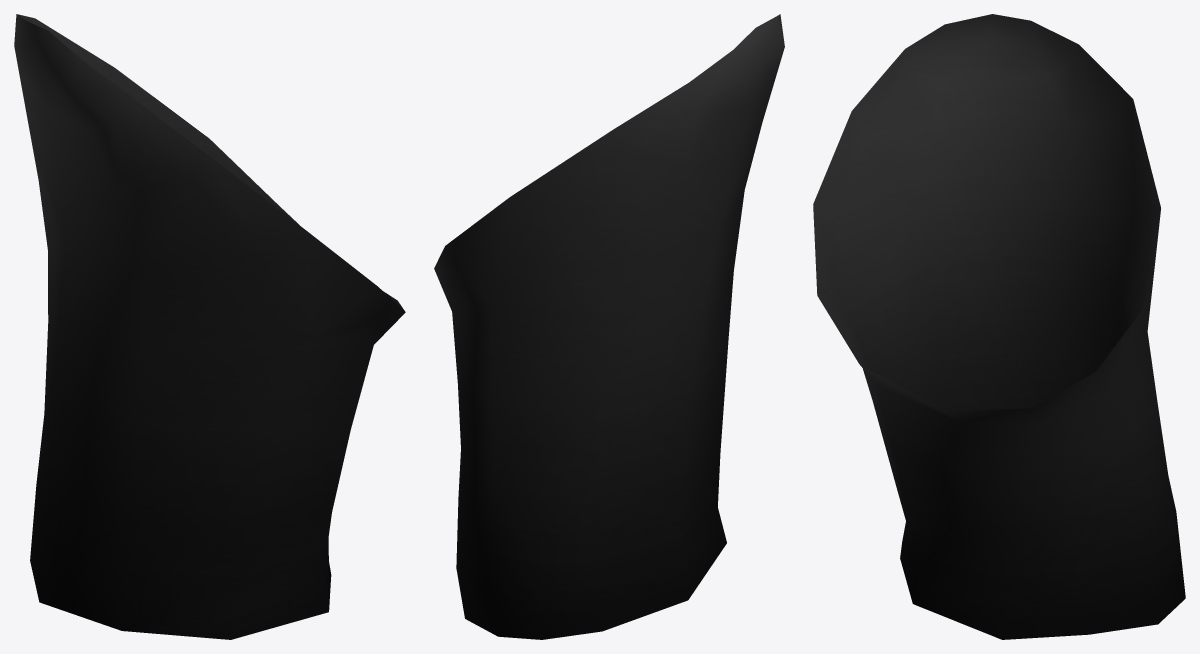
File: armupright.fbx
The picture shows the model from 3 angles, left to right: view 1: azimuth 30°, elevation 25°; view 2: azimuth 150°, elevation 25°; view 3: azimuth 270°, elevation 25°; orthographic projection. The views are drawn at different scales.
Parts seen in each view (by area): view 1: armupright; view 2: armupright; view 3: armupright.
Part boxes in pixels (x1,y1,x2,y2): armupright: [14, 14, 405, 639]; armupright: [434, 14, 784, 639]; armupright: [813, 14, 1185, 639].
Size of the model in its own units: 9.42 by 17.35 by 11.23.
